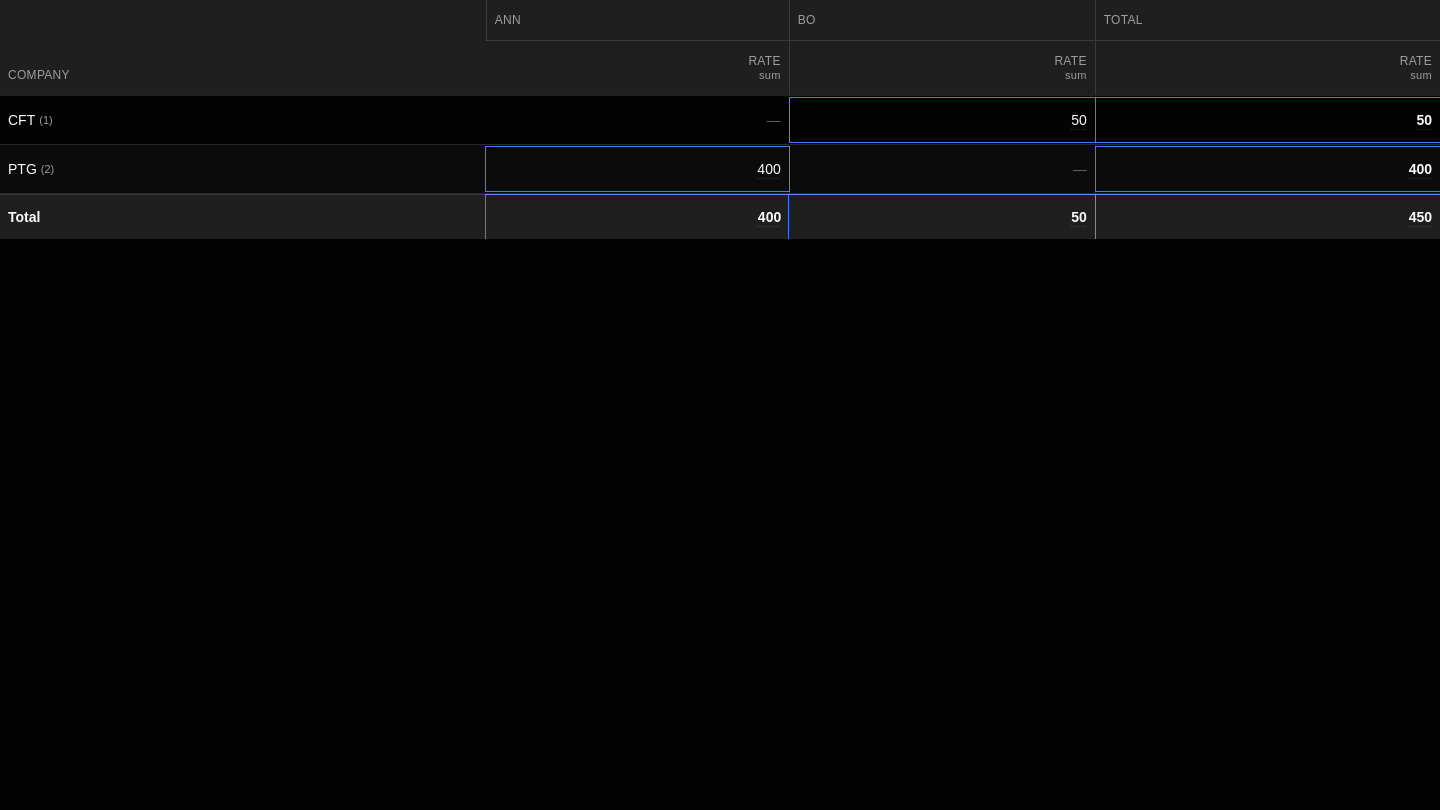
it: the dialog answers for the cell that opened it › lists the source rows behind the figure
Click the 1st button "400".
click(769, 169)  # box left=486, top=147, right=789, bottom=191
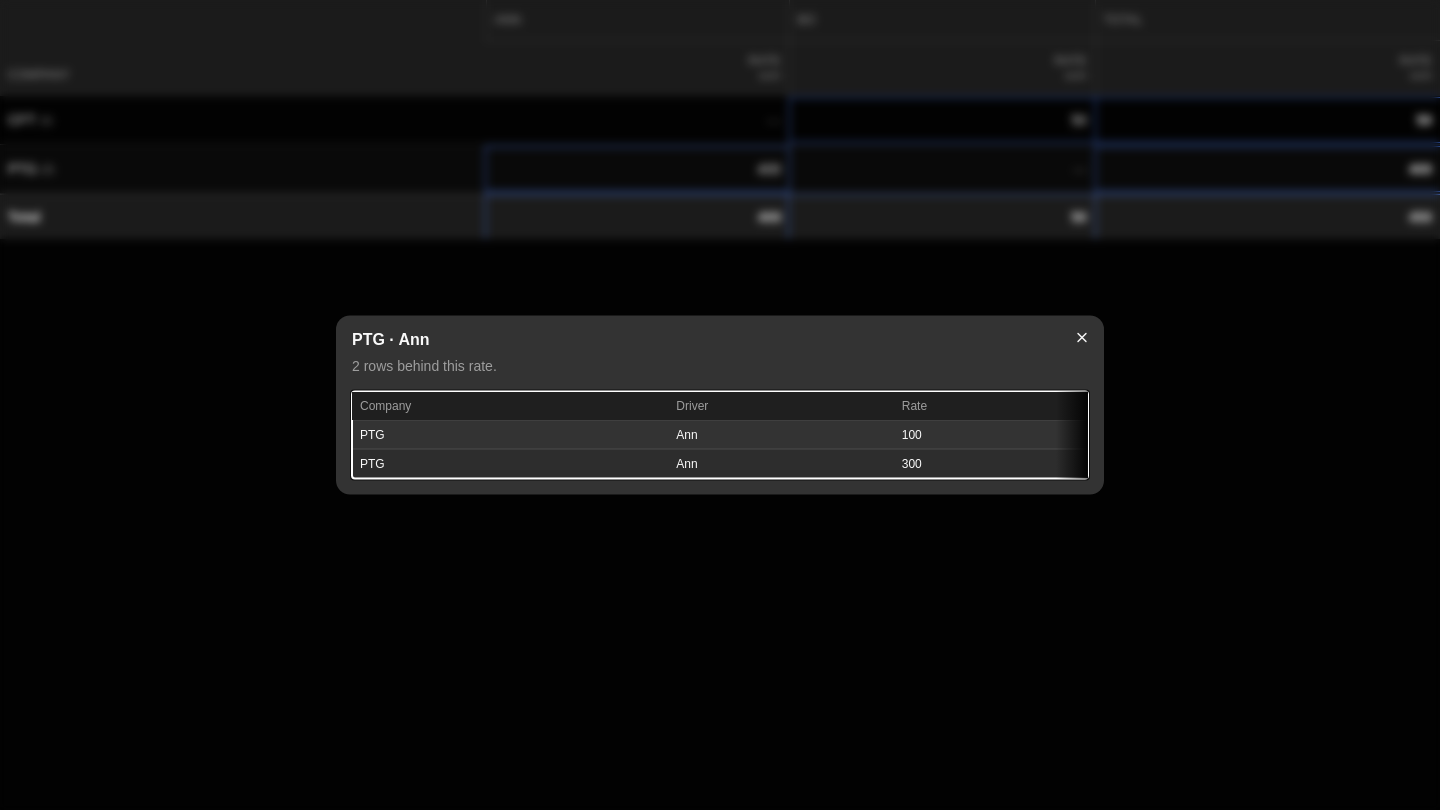
Check: the dialog shows "PTG", box left=352, top=330, right=385, bottom=348
Check: the dialog shows "Ann", box left=676, top=428, right=698, bottom=442
Check: the dialog shows "2 rows", box left=336, top=316, right=1104, bottom=494
